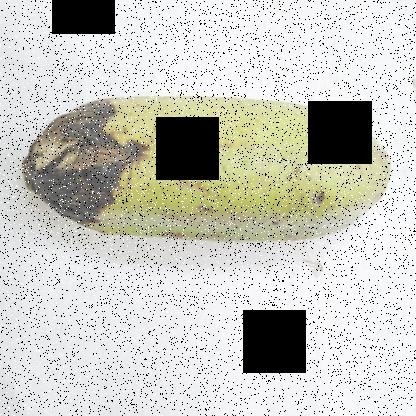rotten: (1, 70, 172, 256)
